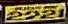character: (40, 9, 57, 19), (6, 11, 24, 20), (57, 7, 64, 18)
